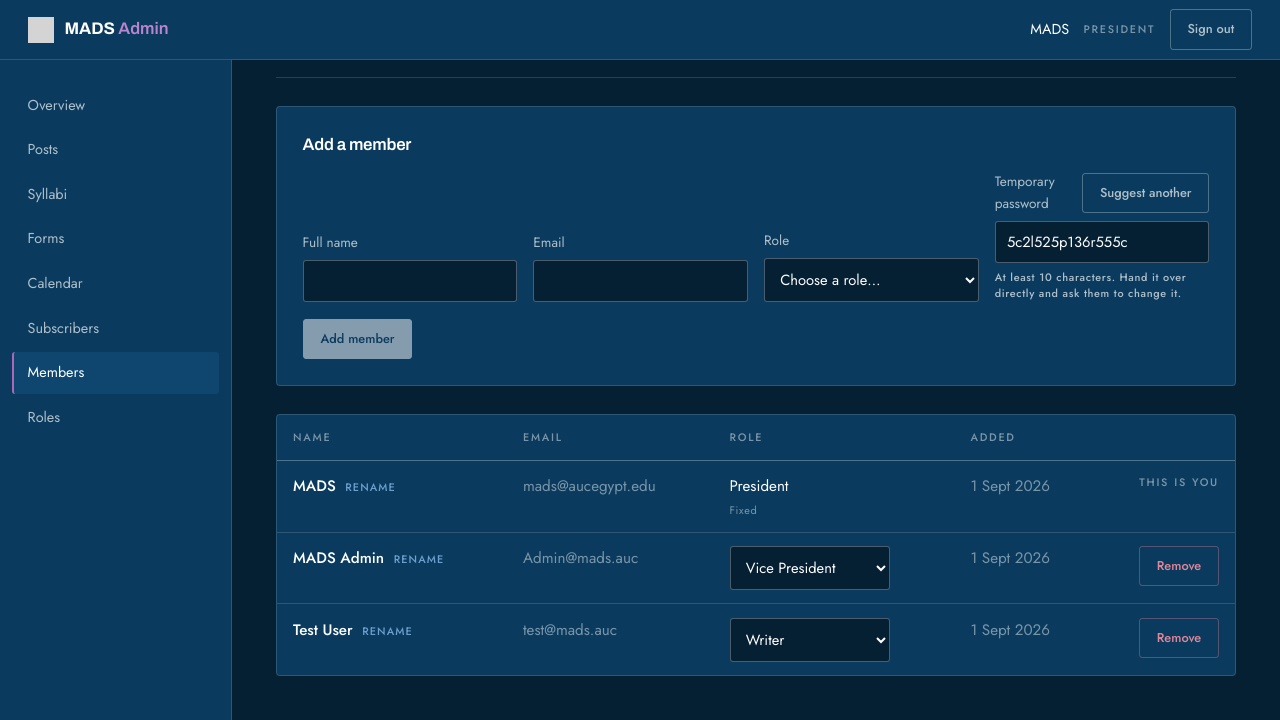
Members › renames a member
(page scrolled)
Click the button with aria-label "rename test user" at (388, 631), box [362,623,413,639]
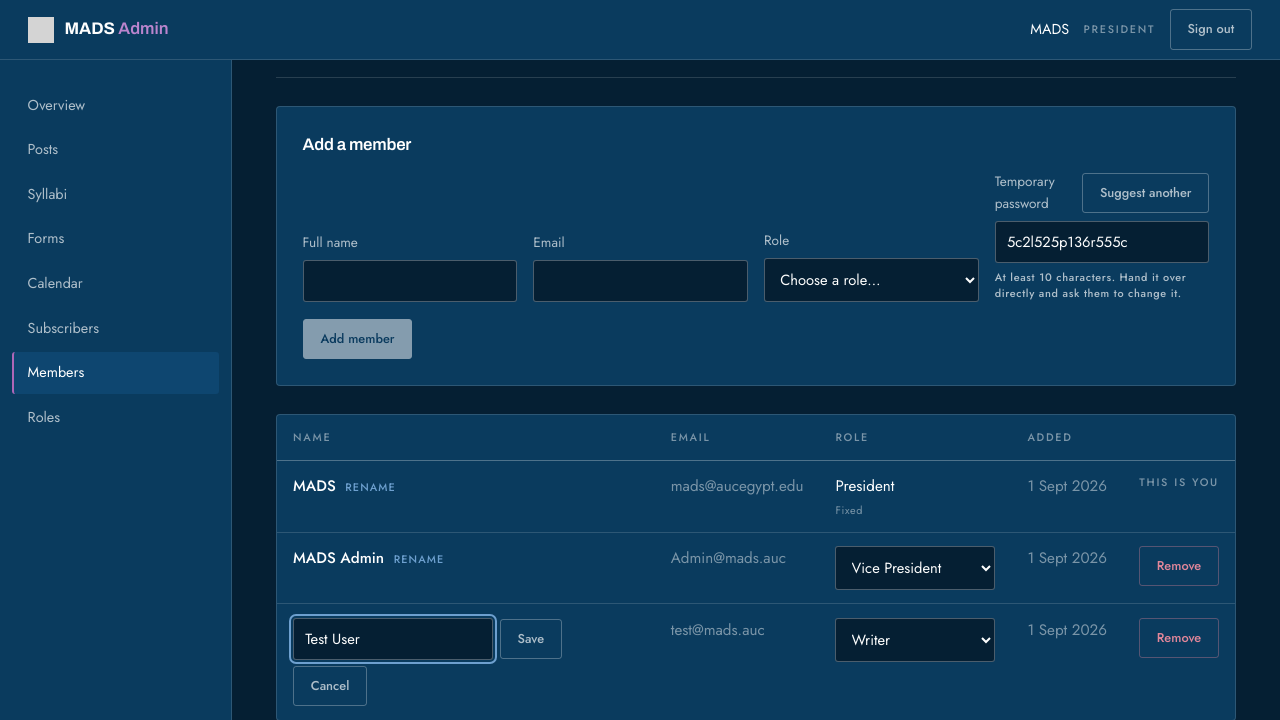
Replace the text in the field named "new name for test user" with "Nour Hassan" at (393, 639), box [293,618,493,660]
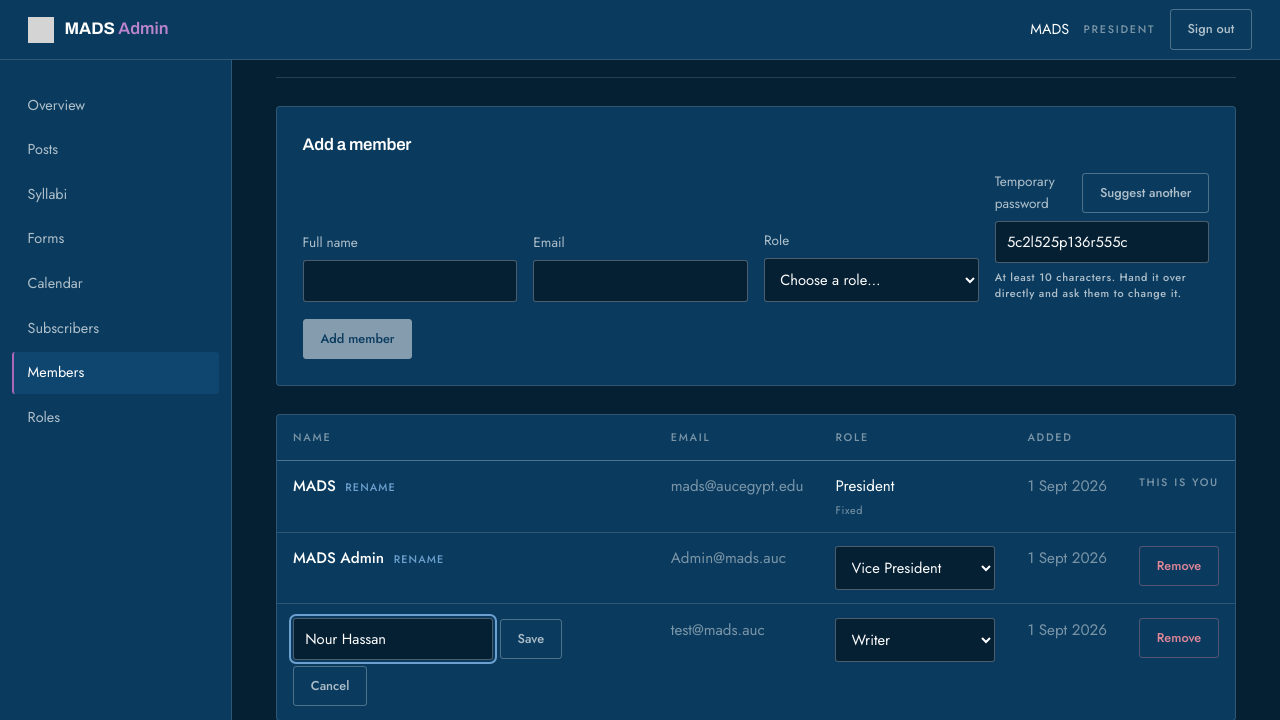
Click the button "Save" at (531, 639), box [500,619,562,659]
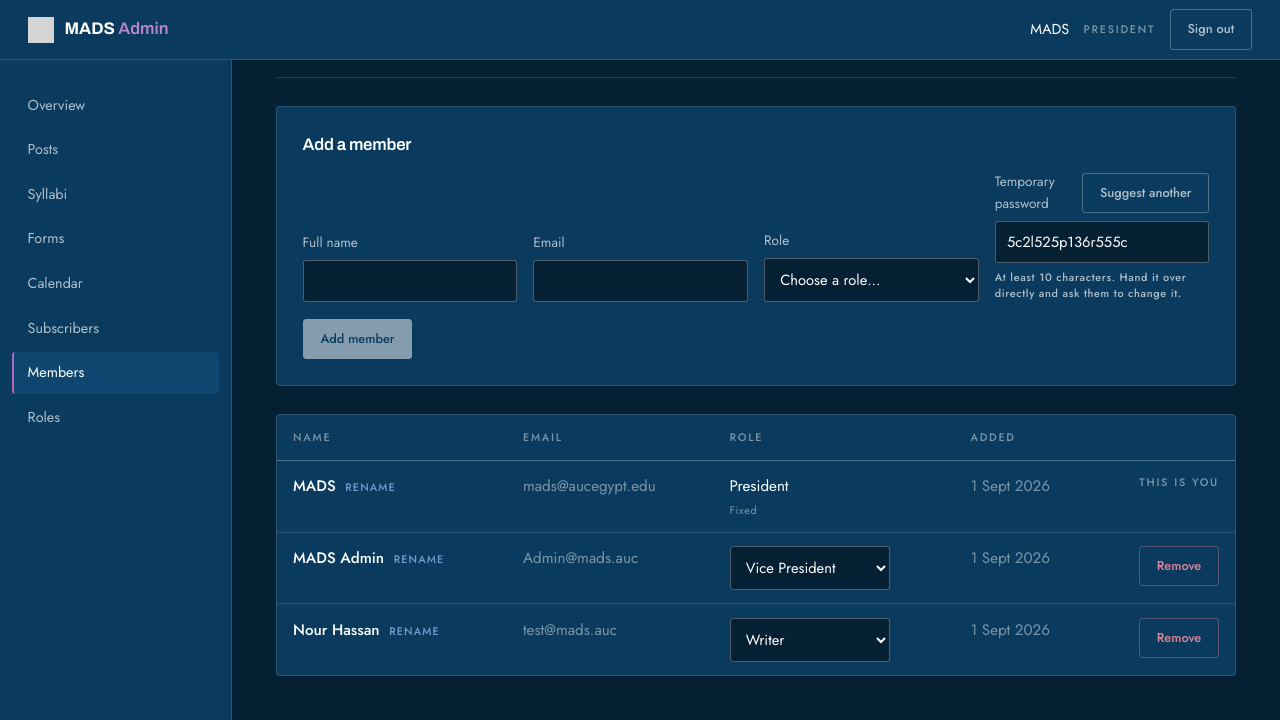
Check: the button with aria-label "rename nour hassan" is shown, box [389,623,440,639]
